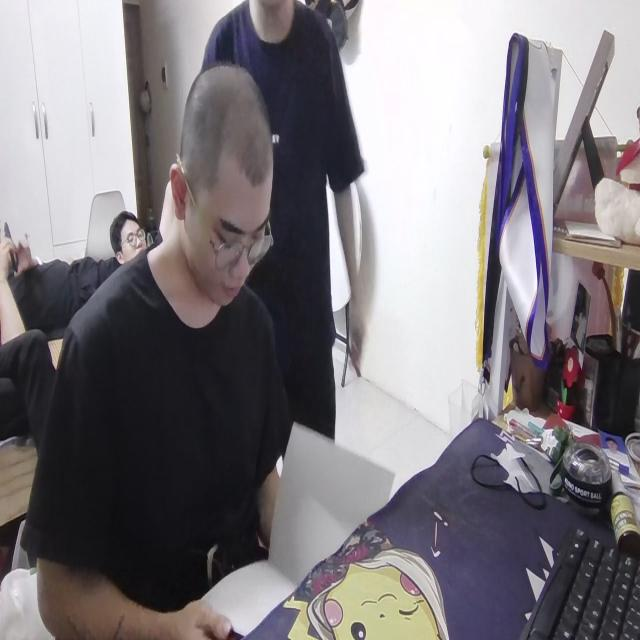book: (187, 422, 395, 640)
extra_person: (203, 0, 369, 446)
student: (19, 66, 302, 640)
